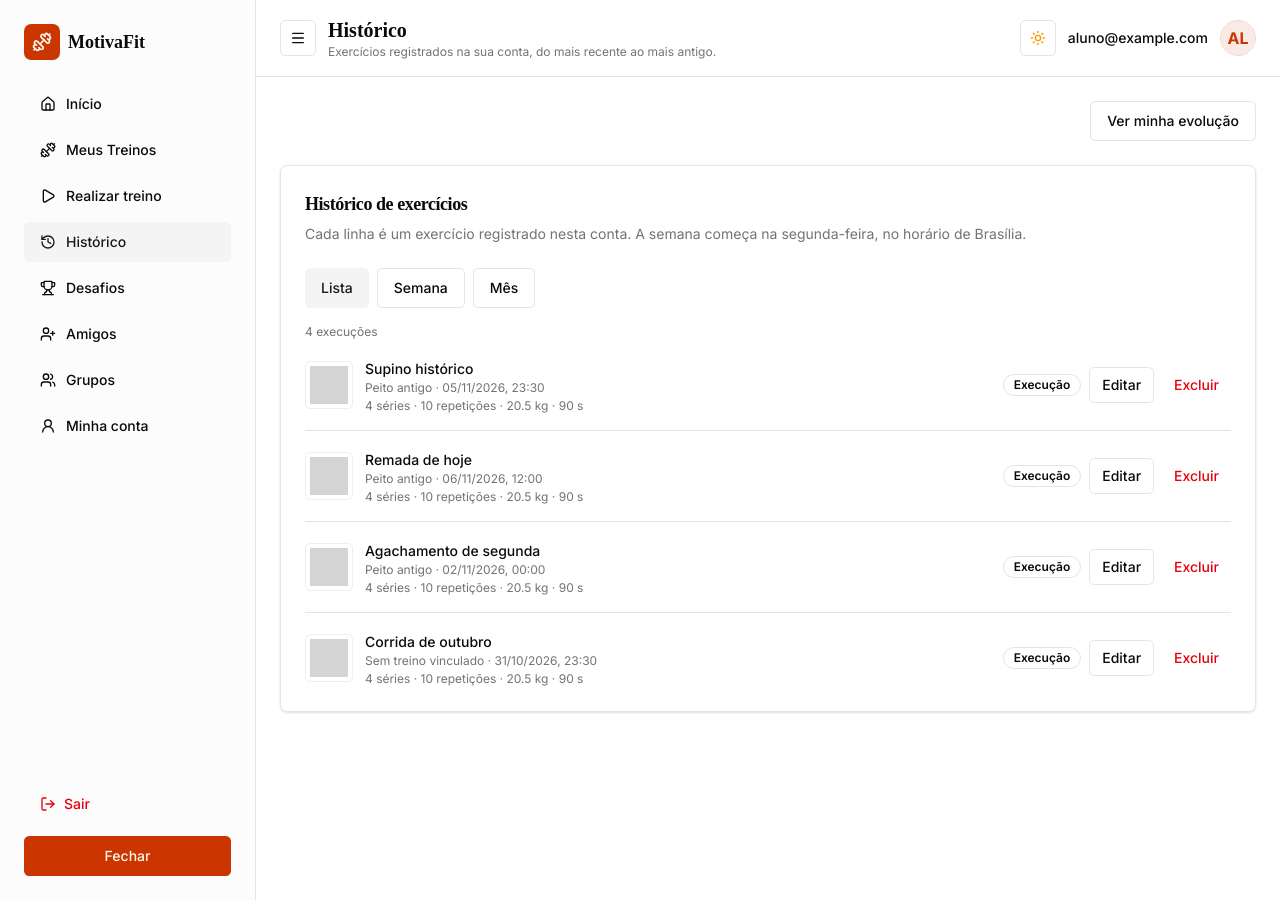
Test: histórico de exercícios › pagina o mês civil e isola o dia anterior à meia-noite de Brasília
The image size is (1280, 900).
Expected: the text "Remada de hoje" is shown, [365,451,472,468]
Click the button "Mês".
click(504, 288)  # box [473,268,535,308]
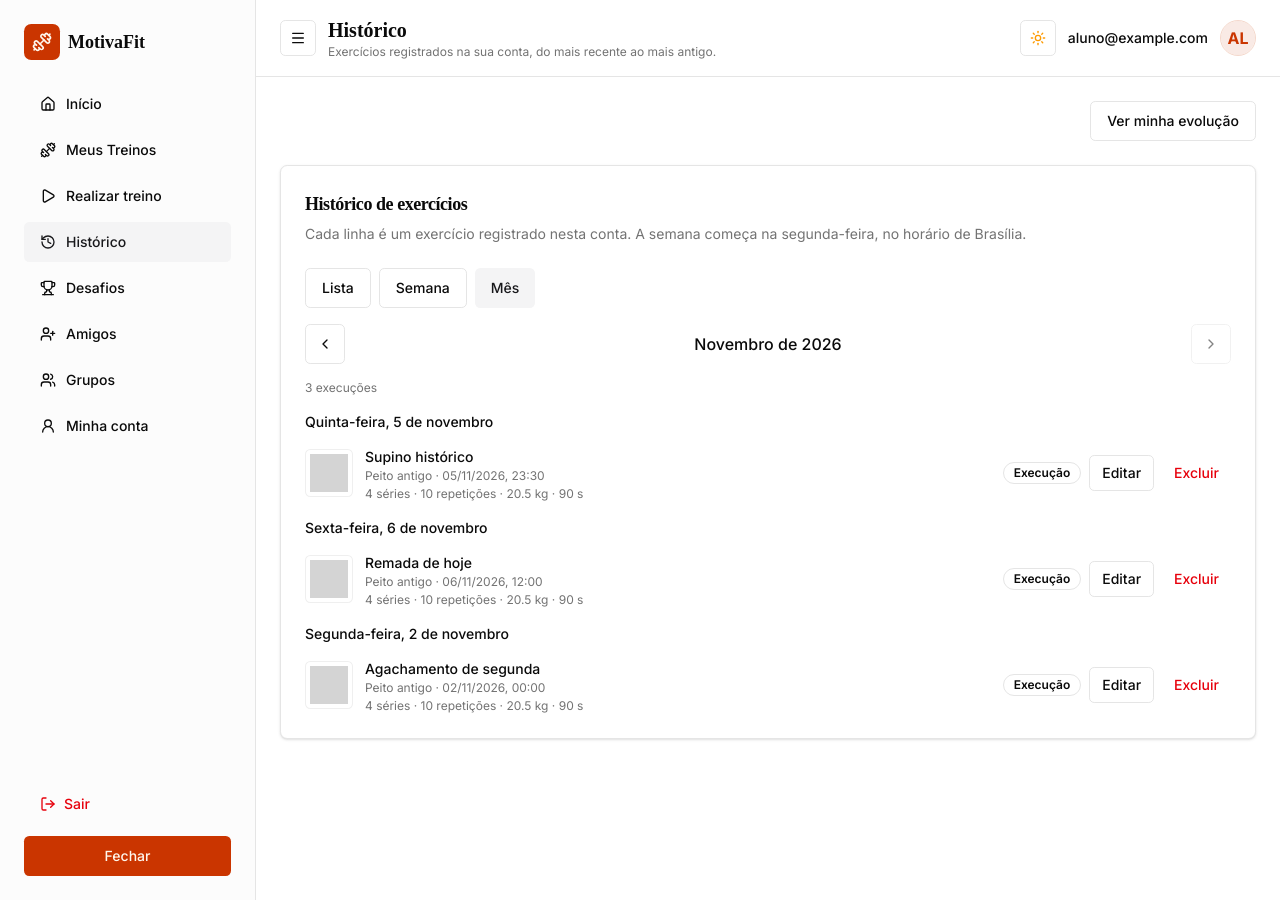
Now the heading "Novembro de 2026" is shown, box [694,334,842,354]
Now the text "3 execuções" is shown, box [305,380,377,395]
Now the text "Corrida de outubro" is gone
Click the button named "Mês anterior".
click(325, 344)  # box [305,324,345,364]
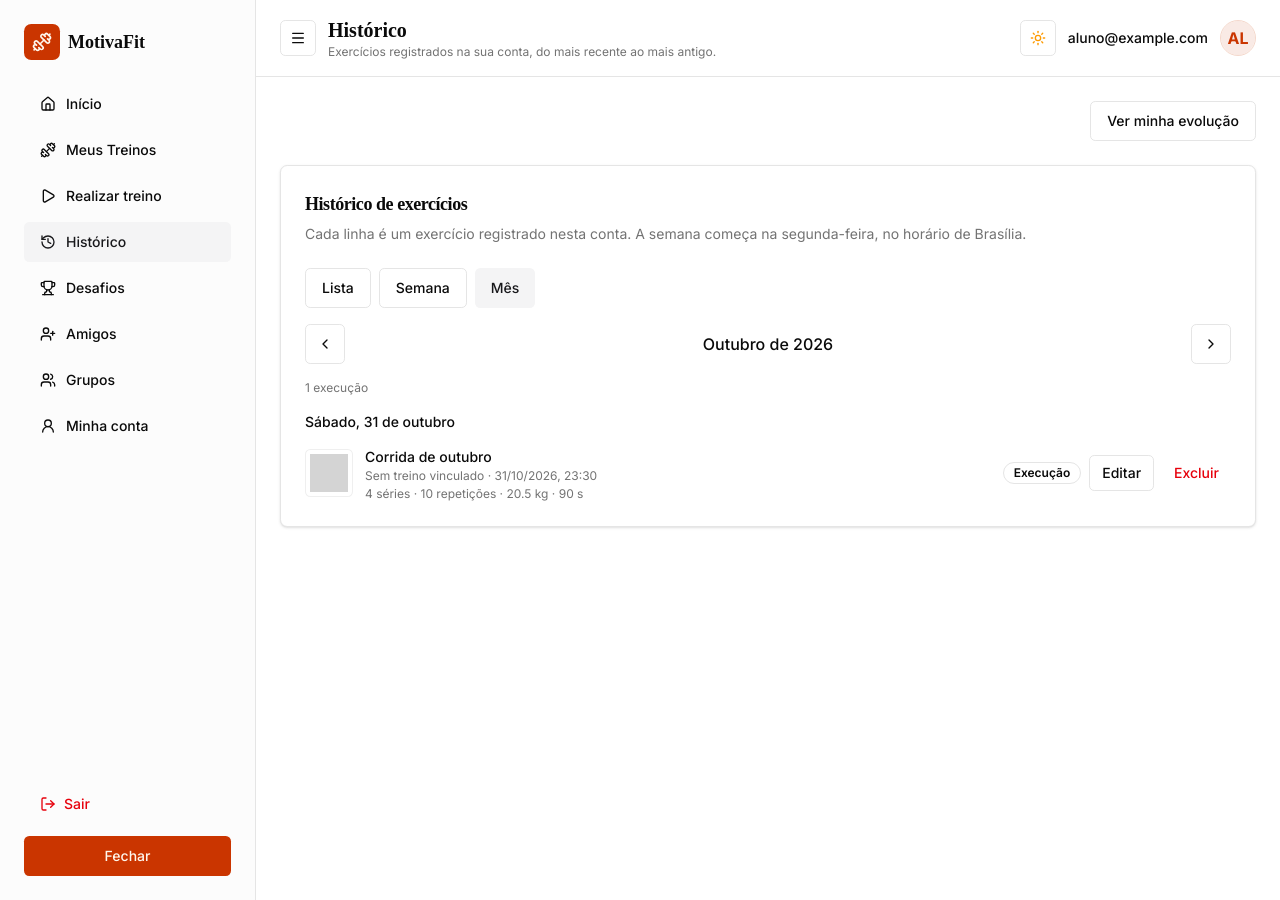
Now the heading "Outubro de 2026" is shown, box [703,334,833,354]
Now the text "Corrida de outubro" is shown, box [365,448,492,465]
Now the text "1 execução" is shown, box [305,380,368,395]
Click the button named "Próximo mês".
click(1211, 344)  # box [1191,324,1231,364]
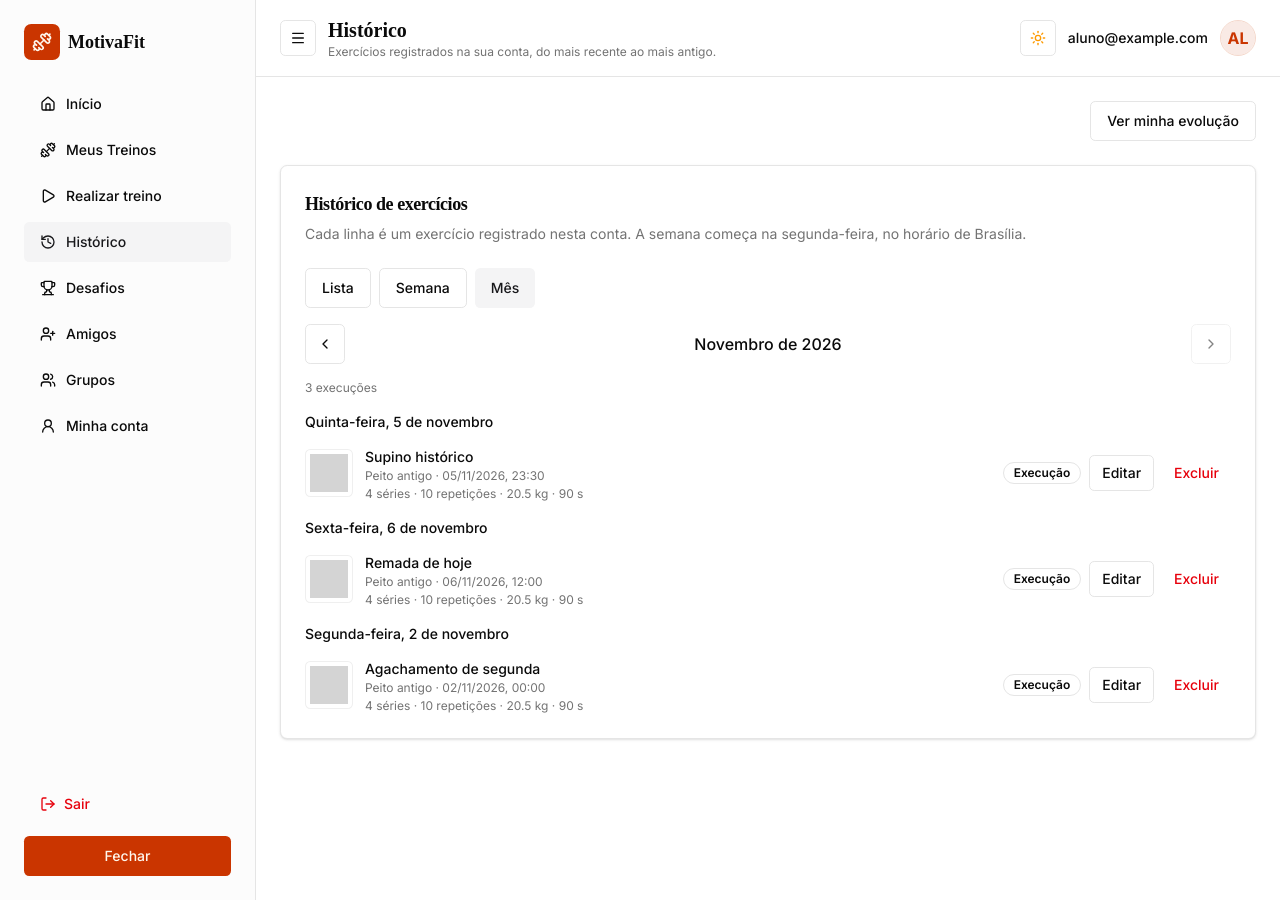
Now the text "Remada de hoje" is shown, box [365,554,472,571]
